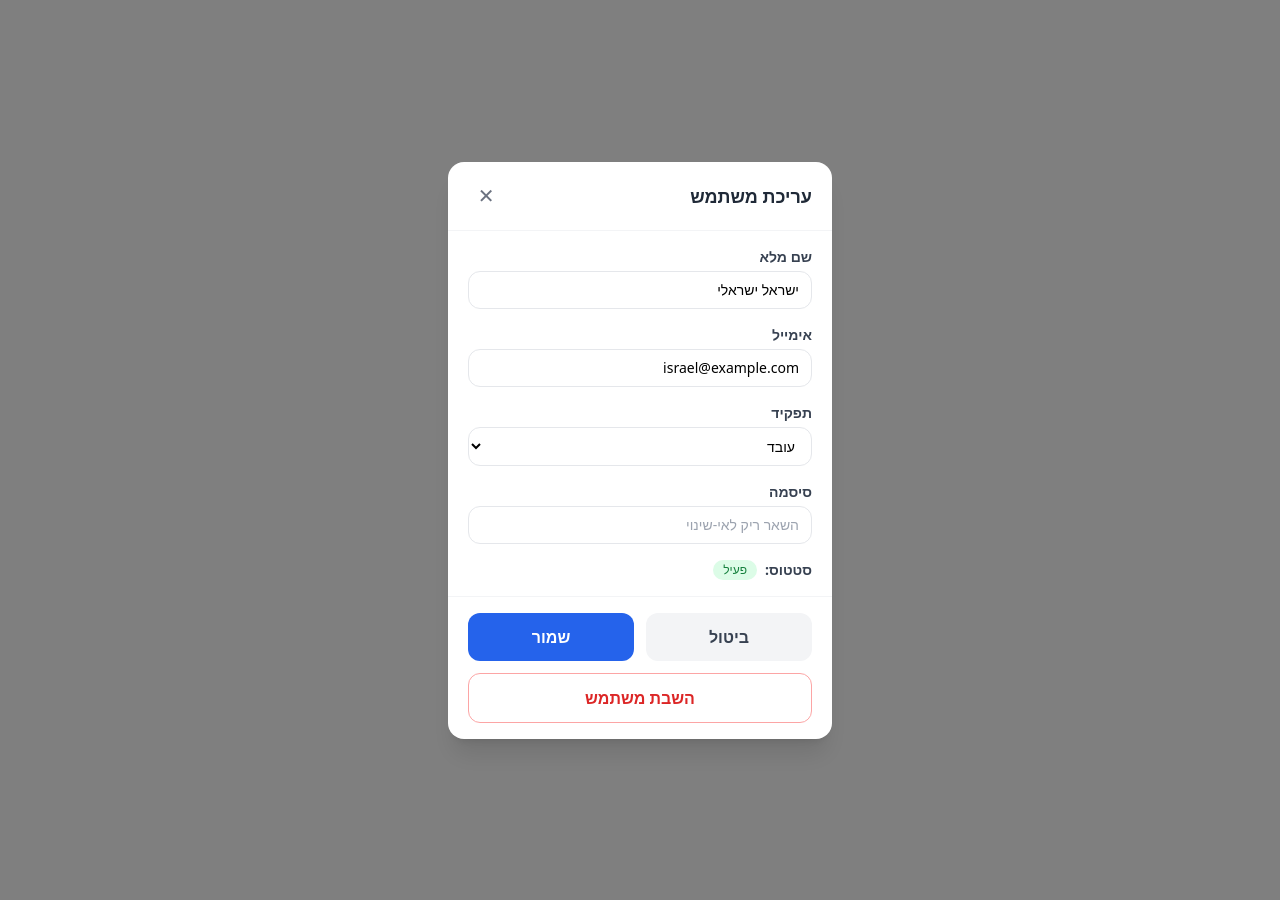
Test: deactivate › shows API error message inline on 400
This screenshot has width=1280, height=900.
Click the button "השבת משתמש" at (640, 698), box top-left (468, 672), bottom-right (812, 722)
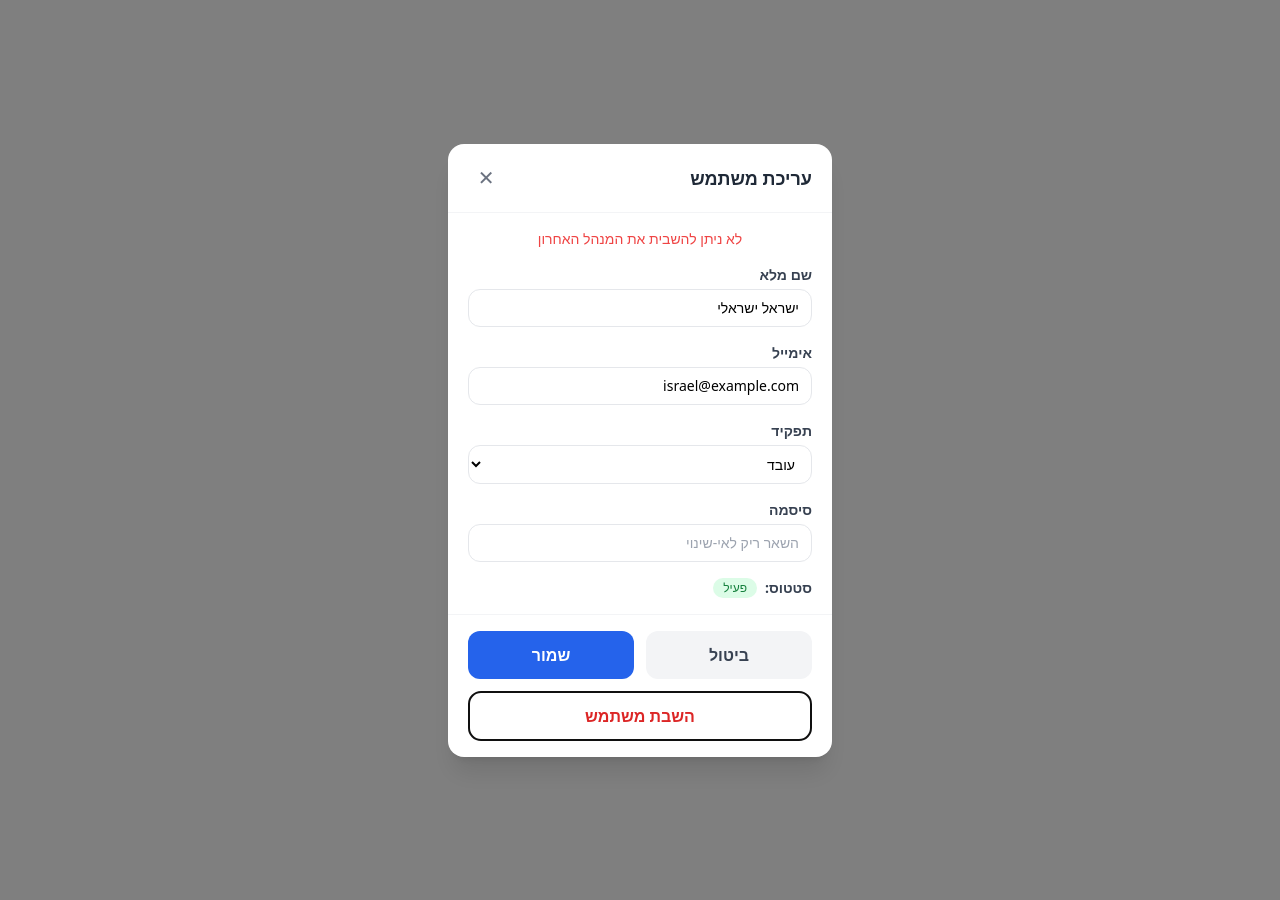
Expected: the message reads "לא ניתן להשבית את המנהל האחרון", top-left (538, 228), bottom-right (742, 248)
